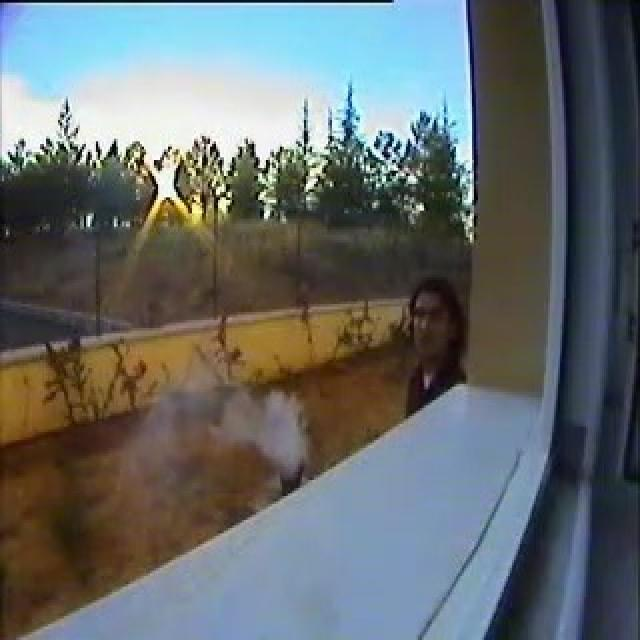smoke: (224, 408, 306, 470)
